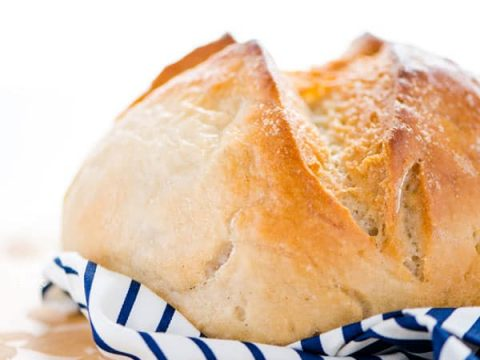Bread: (48, 19, 478, 335)
